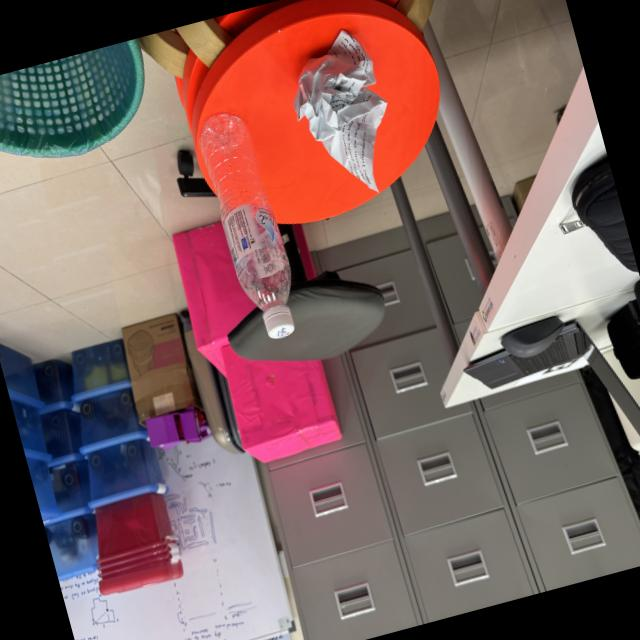crumpled_paper: (269, 11, 417, 220)
plastic_bottle: (178, 92, 316, 364)
